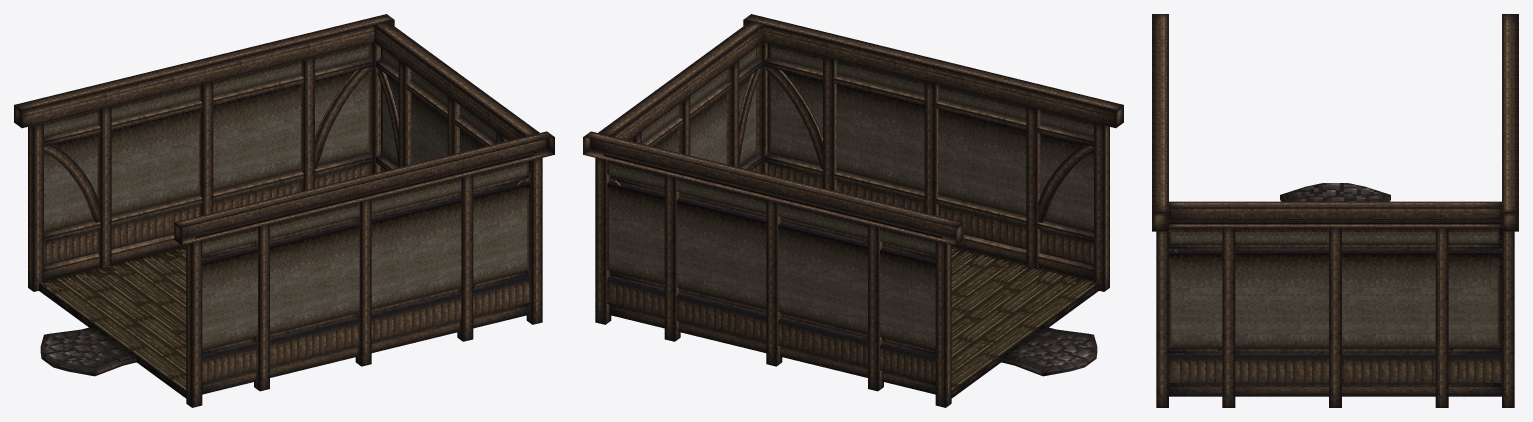
Rendered from EnvBdgMD_Mount_A_Indoor_House_B.FBX.
The picture shows the model from 3 angles, left to right: view 1: azimuth 30°, elevation 25°; view 2: azimuth 150°, elevation 25°; view 3: azimuth 270°, elevation 25°; orthographic projection. The views are drawn at different scales.
Visible parts, largest first — view 1: EnvBdgMD_Mount_A_Indoor_House_B; view 2: EnvBdgMD_Mount_A_Indoor_House_B; view 3: EnvBdgMD_Mount_A_Indoor_House_B.
Boxes of the visible parts, box(x1,y1,x2,y2) form: EnvBdgMD_Mount_A_Indoor_House_B: box(14, 14, 554, 407); EnvBdgMD_Mount_A_Indoor_House_B: box(583, 14, 1123, 407); EnvBdgMD_Mount_A_Indoor_House_B: box(1152, 14, 1518, 407).
Size of the model in its own units: 1250 by 520 by 860.
1 material, 1 textured.
